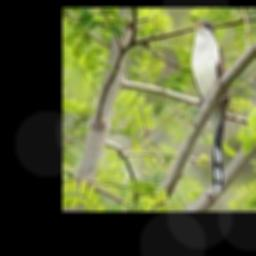Cuckoo: (189, 20, 228, 194)
